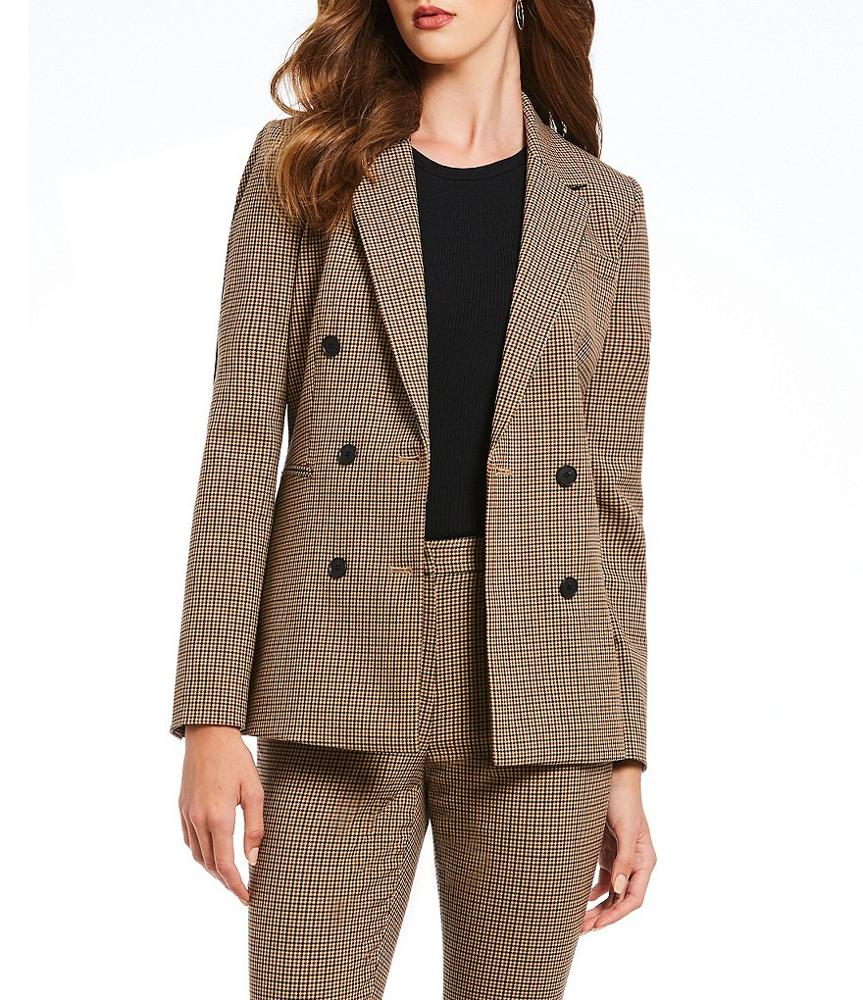F_W_suit jacket: (177, 89, 667, 778)
